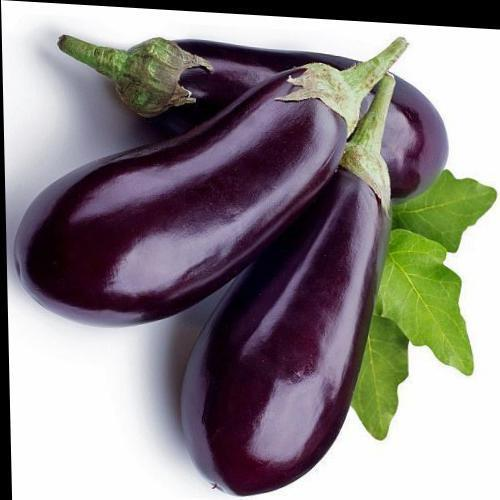eggplant: (48, 16, 448, 452)
